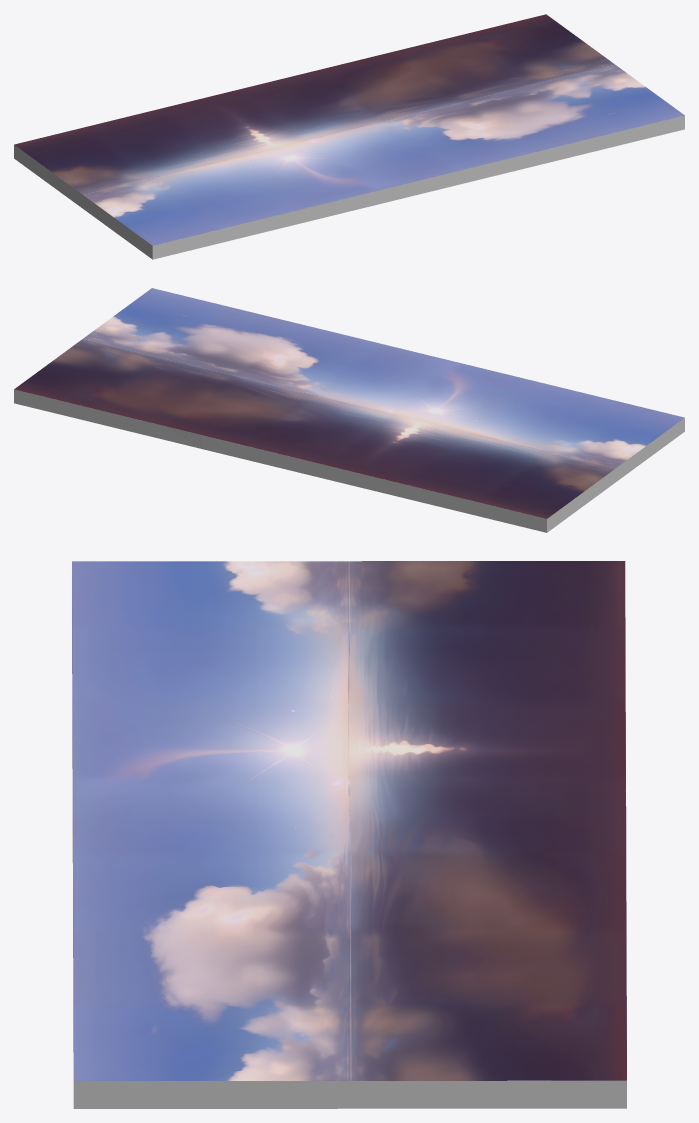
Rendered from screen22.glb.
3 renders of one model, top to bottom at view 1: azimuth 30°, elevation 25°; view 2: azimuth 150°, elevation 25°; view 3: azimuth 270°, elevation 25°, orthographic. The views are drawn at different scales.
Parts seen in each view (by area): view 1: Plane.004, Plane.048, Plane.053, Cube.037, Plane.056, Cube.045, Plane.049, Plane.055, Plane.047, Plane.067, Plane.005, Plane.072 (+80 smaller); view 2: Plane.004, Plane.048, Plane.053, Cube.052, Plane.056, Cube.054, Plane.049, Plane.055, Plane.067, Plane.047, Plane.072, Plane.060 (+81 smaller); view 3: Plane.004, Plane.048, Plane.053, Plane.056, Plane.049, Plane.055, Plane.047, Plane.067, Plane.060, Plane.072, Plane.005, Plane.021 (+79 smaller).
Boxes of the visible parts, bbox=[...] form: Plane.004: bbox=[29, 154, 151, 178]; Plane.048: bbox=[117, 207, 220, 237]; Plane.053: bbox=[114, 111, 235, 147]; Cube.037: bbox=[225, 202, 328, 241]; Plane.056: bbox=[51, 141, 193, 163]; Cube.045: bbox=[533, 130, 625, 166]; Plane.049: bbox=[163, 174, 289, 208]; Plane.055: bbox=[358, 48, 427, 81]; Plane.047: bbox=[453, 91, 576, 115]; Plane.067: bbox=[183, 83, 306, 117]; Plane.005: bbox=[535, 82, 660, 109]; Plane.072: bbox=[406, 68, 496, 100]; Plane.004: bbox=[515, 459, 593, 507]; Plane.048: bbox=[574, 411, 673, 443]; Plane.053: bbox=[367, 454, 503, 486]; Cube.052: bbox=[58, 400, 159, 438]; Plane.056: bbox=[450, 455, 547, 500]; Cube.054: bbox=[310, 461, 404, 498]; Plane.049: bbox=[470, 402, 601, 432]; Plane.055: bbox=[144, 407, 224, 435]; Plane.067: bbox=[293, 438, 407, 470]; Plane.047: bbox=[172, 336, 264, 373]; Plane.072: bbox=[150, 380, 261, 406]; Plane.060: bbox=[245, 330, 327, 356]; Plane.004: bbox=[412, 561, 563, 643]; Plane.048: bbox=[114, 561, 218, 648]; Plane.053: bbox=[496, 630, 576, 756]; Plane.056: bbox=[404, 577, 550, 696]; Plane.049: bbox=[157, 607, 228, 733]; Plane.055: bbox=[496, 896, 626, 958]; Plane.047: bbox=[247, 913, 313, 1018]; Plane.067: bbox=[547, 711, 625, 827]; Plane.060: bbox=[146, 886, 244, 968]; Plane.072: bbox=[411, 892, 510, 990]; Plane.005: bbox=[167, 976, 254, 1080]; Plane.021: bbox=[420, 672, 479, 825].
Size of the model in its own units: 40.03 by 1 by 18.06.
2 materials, 1 textured.
